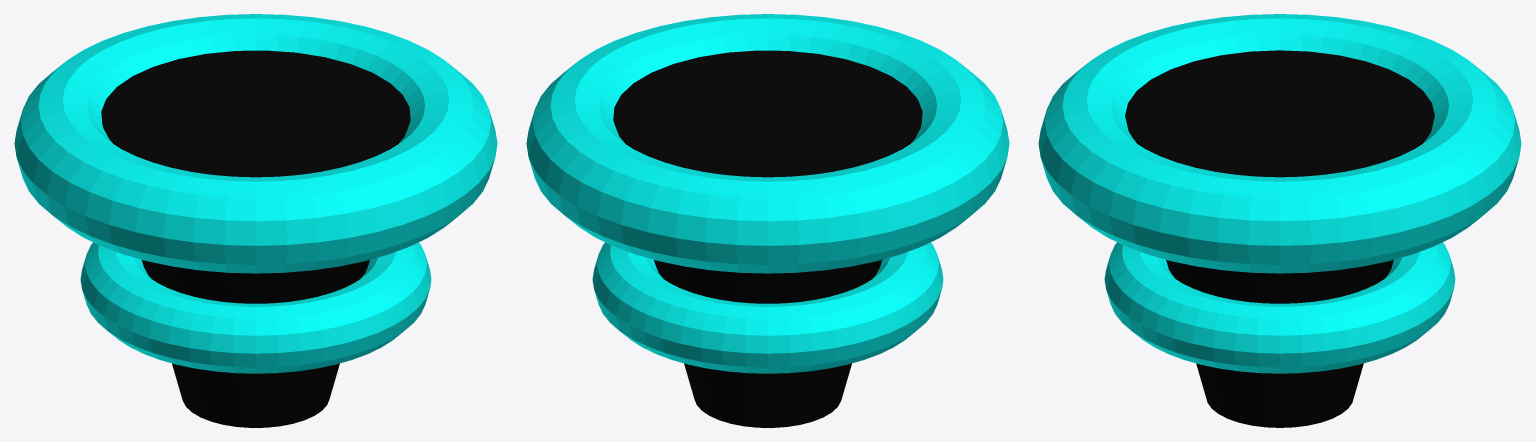
Rendered from Kek torony felso.glb.
3 views of the same model, side by side, from view 1: azimuth 30°, elevation 25°; view 2: azimuth 150°, elevation 25°; view 3: azimuth 270°, elevation 25° (orthographic).
Visible parts, largest first — view 1: Torus.006; view 2: Torus.006; view 3: Torus.006.
Boxes of the visible parts, x1=… form: Torus.006: x1=14, y1=14, x2=497, y2=427; Torus.006: x1=526, y1=14, x2=1009, y2=427; Torus.006: x1=1038, y1=14, x2=1521, y2=427.
Size of the model in its own units: 3.12 by 2.11 by 3.12.
